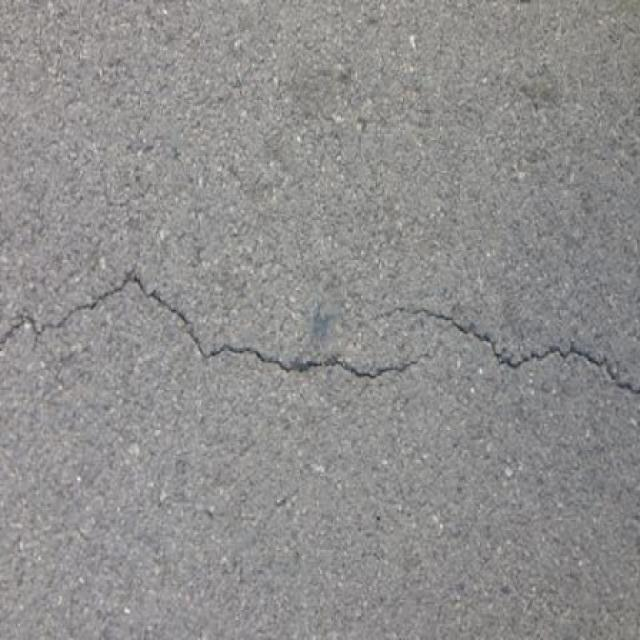Diagonal Crack: (0, 256, 640, 409)
